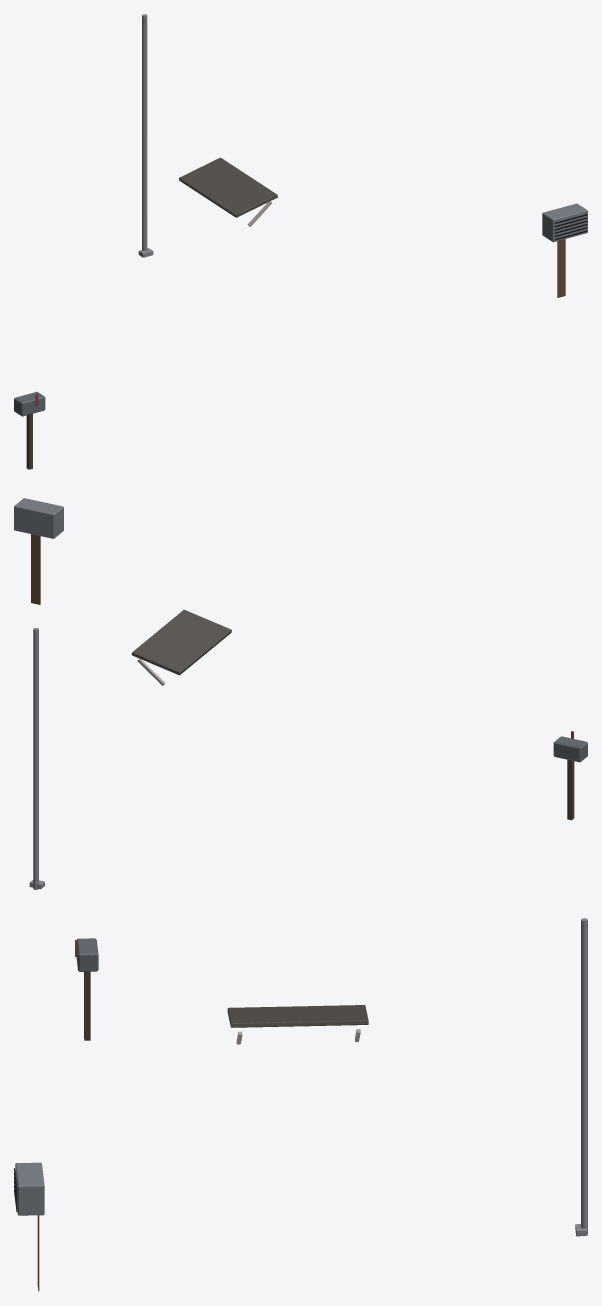
Rendered from house3_bits.glb.
3 renders of one model, top to bottom at view 1: azimuth 30°, elevation 25°; view 2: azimuth 150°, elevation 25°; view 3: azimuth 270°, elevation 25°, orthographic. The views are drawn at different scales.
Parts seen in each view (by area): view 1: house3_bits; view 2: house3_bits; view 3: house3_bits.
Boxes of the visible parts, <box> form: house3_bits: <box>14,14,587,469</box>; house3_bits: <box>14,498,587,889</box>; house3_bits: <box>14,918,587,1291</box>.
Bounding box in the file's own units: 10.45 × 4.4 × 7.28.
